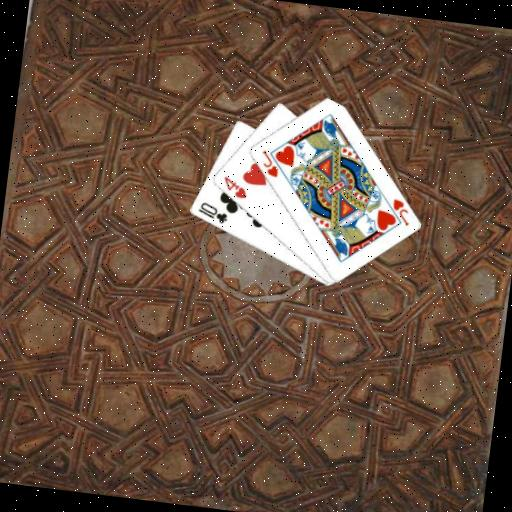10C: (194, 199, 231, 226)
4H: (219, 174, 251, 201)
JH: (256, 147, 283, 180), (387, 195, 414, 228)
